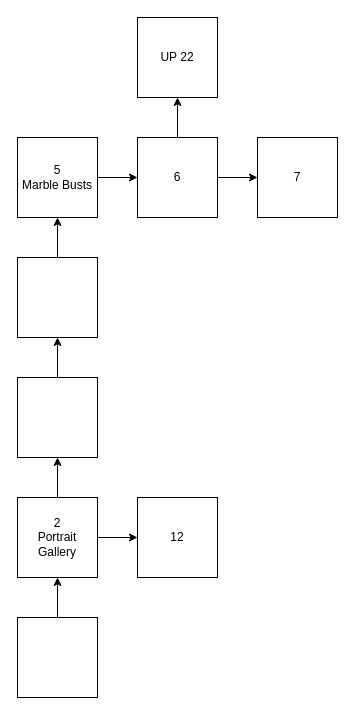
Image size: 355x715. Some labels were removed from this diagram. The centre of each missing label's shape, as x and y in pixels:
"1 Foyer" goes at [57,657].
"3 Hallway" goes at [57,417].
"4 Hallway" goes at [57,297].
